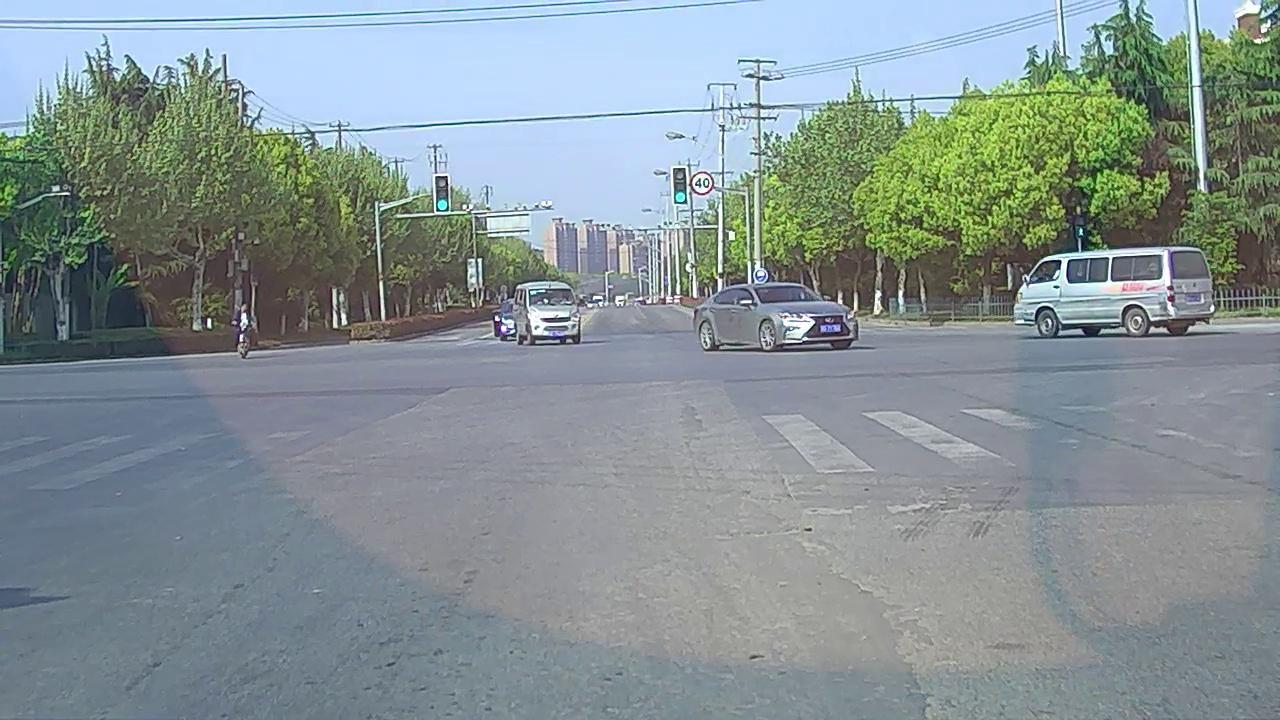traffic_light: (434, 174, 450, 212), (674, 166, 688, 205)
